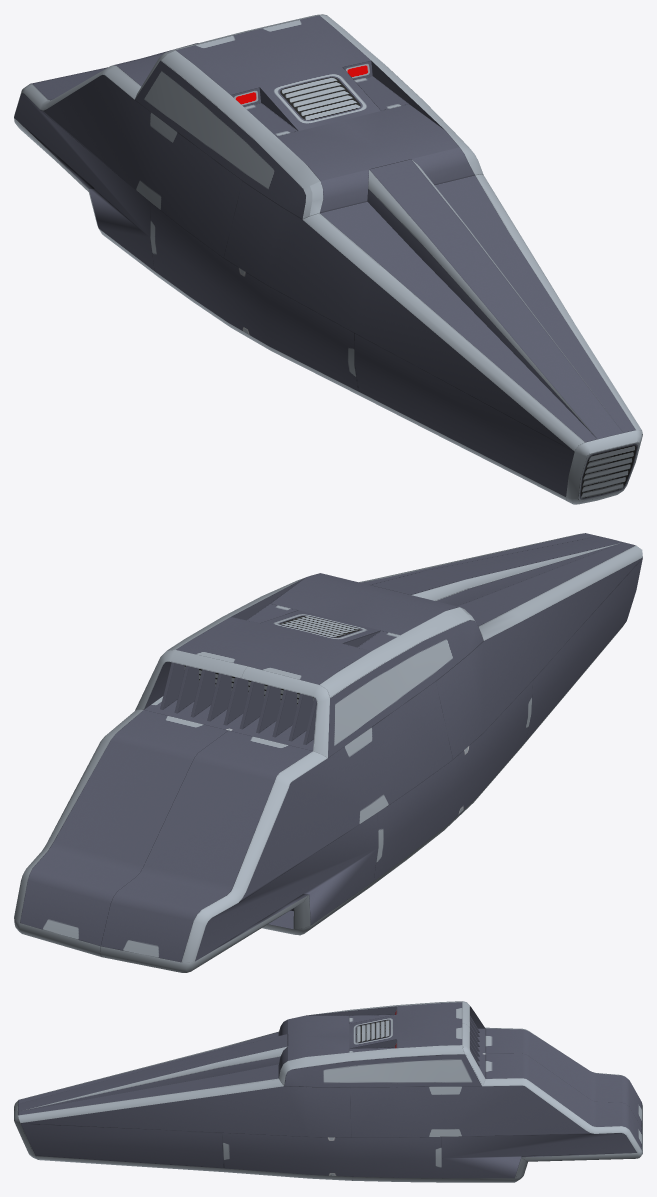
The model's file is Spaceship_Valkyrie_Mark_1.FBX.
3 views of the same model, one above another, from view 1: azimuth 30°, elevation 25°; view 2: azimuth 150°, elevation 25°; view 3: azimuth 270°, elevation 25° (orthographic). The views are drawn at different scales.
Visible parts, largest first — view 1: Spaceship_Valkyrie_Mark_1; view 2: Spaceship_Valkyrie_Mark_1; view 3: Spaceship_Valkyrie_Mark_1.
Boxes of the visible parts, box(x1,y1,x2,y2) form: Spaceship_Valkyrie_Mark_1: box(14, 14, 642, 504); Spaceship_Valkyrie_Mark_1: box(14, 533, 642, 972); Spaceship_Valkyrie_Mark_1: box(14, 1001, 642, 1182).
Bounding box in the file's own units: 4.21 × 3.81 × 16.26.
2 materials, 2 textured.
